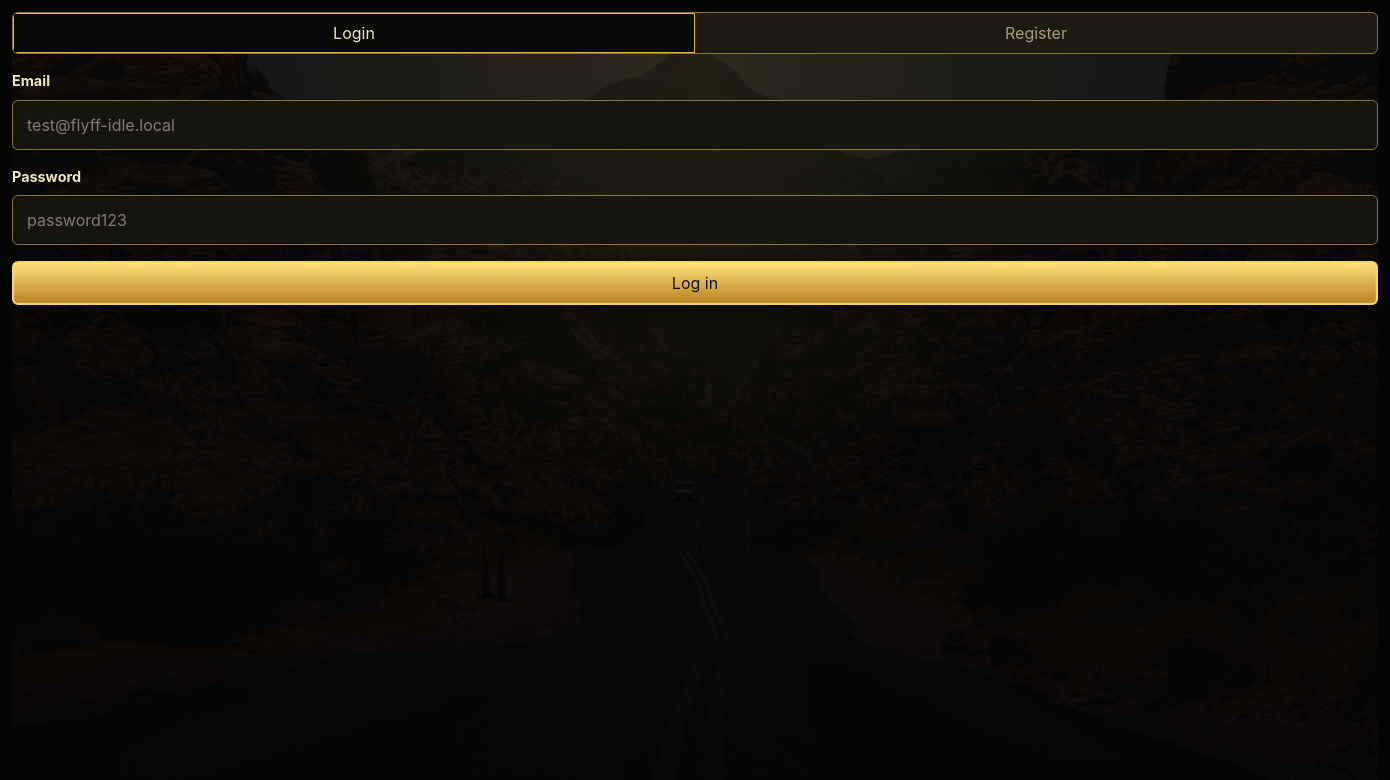
Scenario: LoginForm › register validation › shows register validation error:
Step 1. Click the button "Register" → (1036, 33), box [695,13,1377,53]
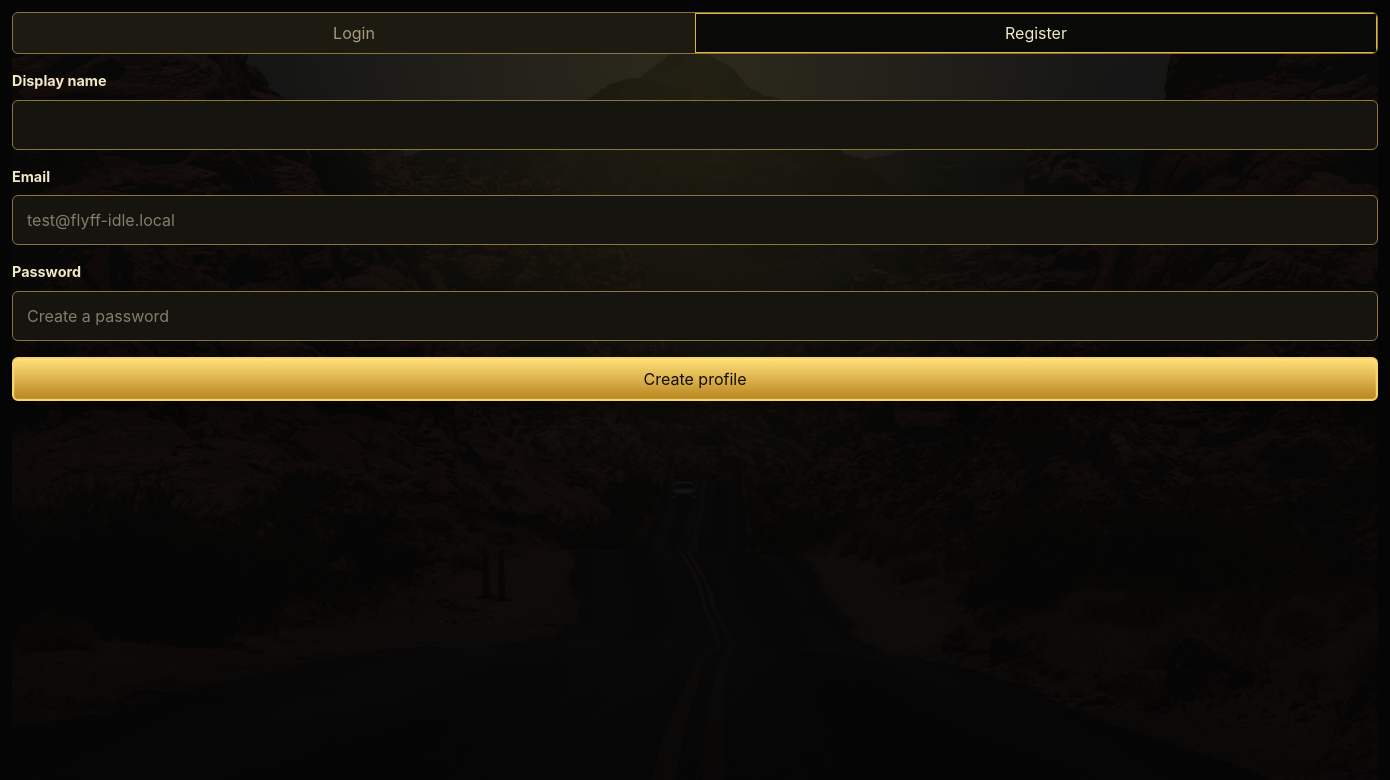
Step 2. Type "new@flyff-idle.local" into the field labelled "Email" → (695, 220), box [12,195,1378,245]
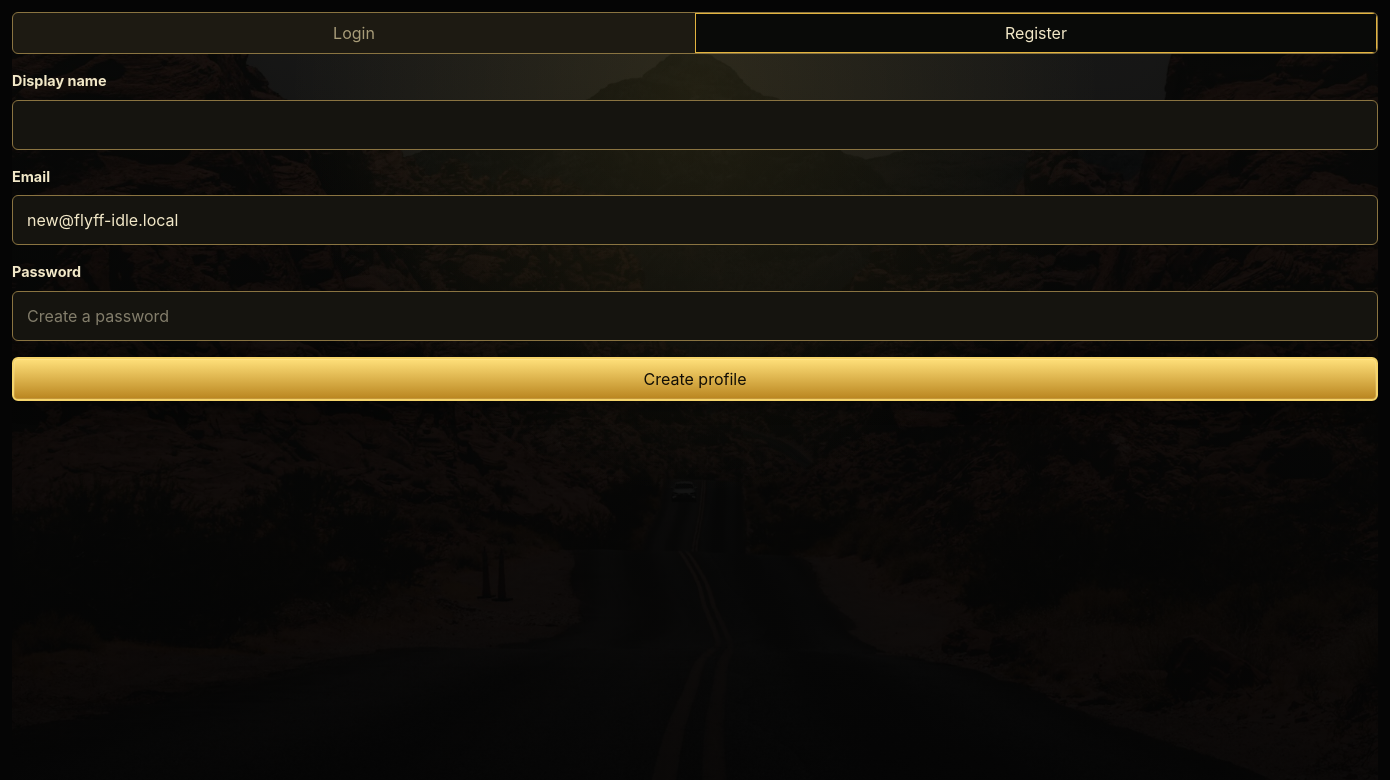
Step 3. Type "password123" into the password field labelled "Password" → (695, 316), box [12,291,1378,341]
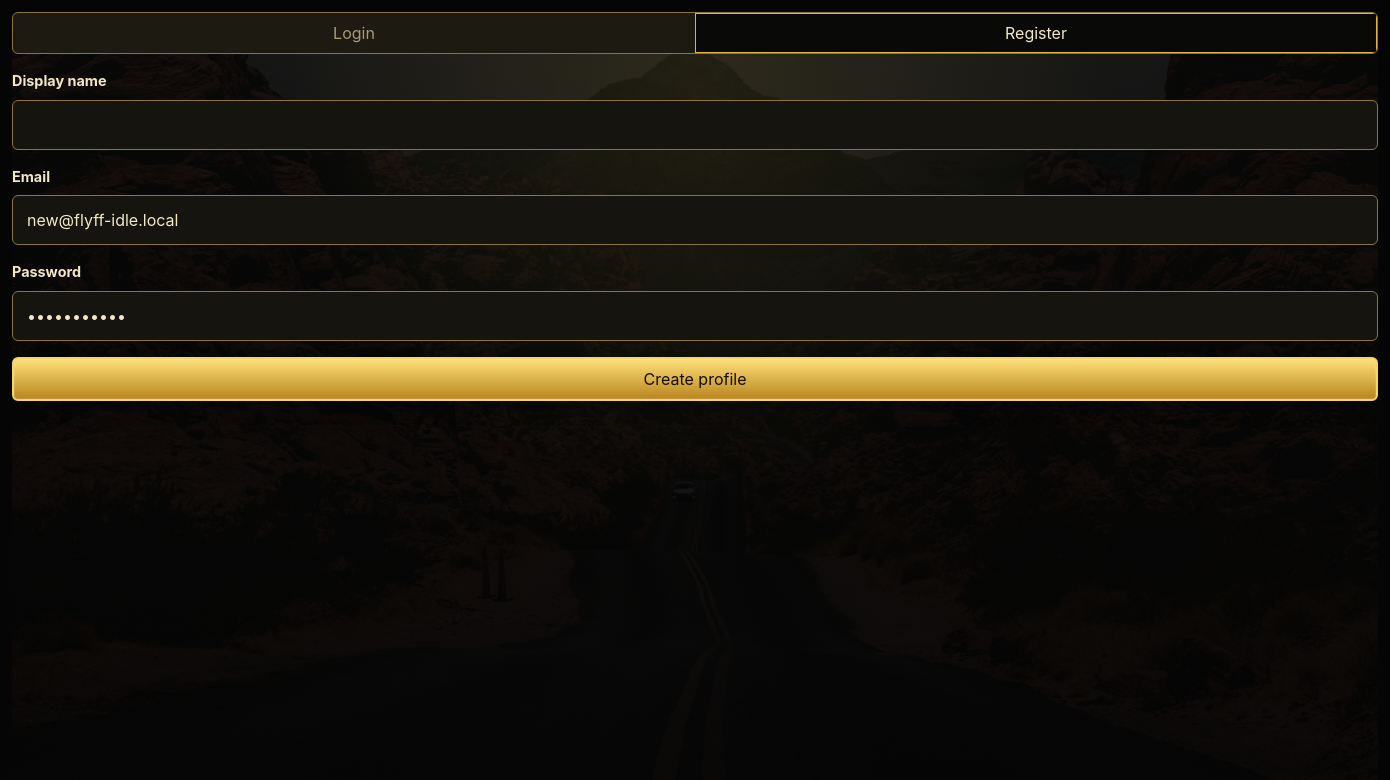
Step 4. Click the button "Create profile" → (695, 379), box [12,357,1378,401]
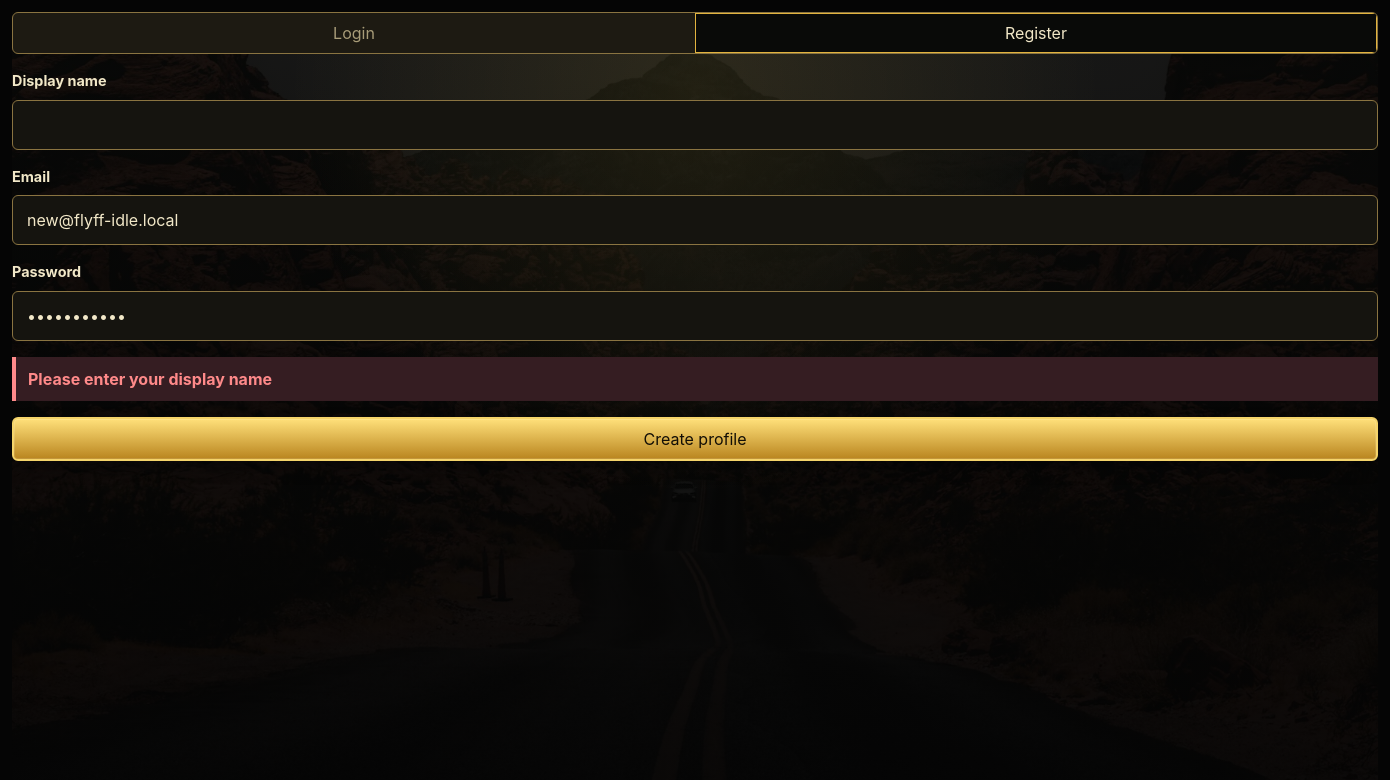
Check: the text "Please enter your display name" is shown, box [28,369,272,389]
